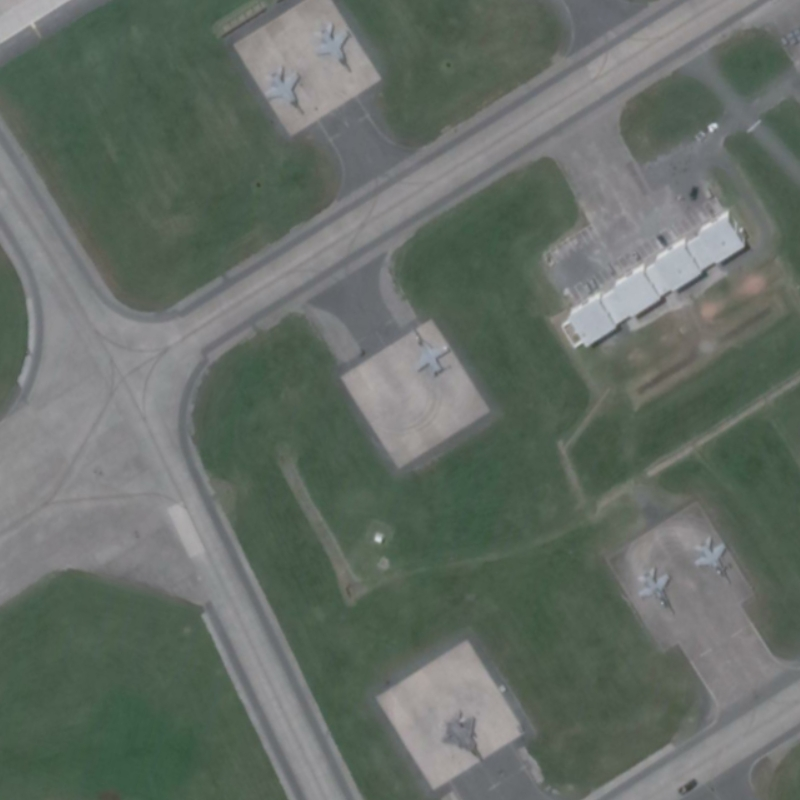A15: (437, 709, 488, 764)
A16: (260, 61, 308, 120), (688, 532, 736, 588), (631, 565, 680, 619), (311, 21, 359, 75), (409, 323, 454, 380)
